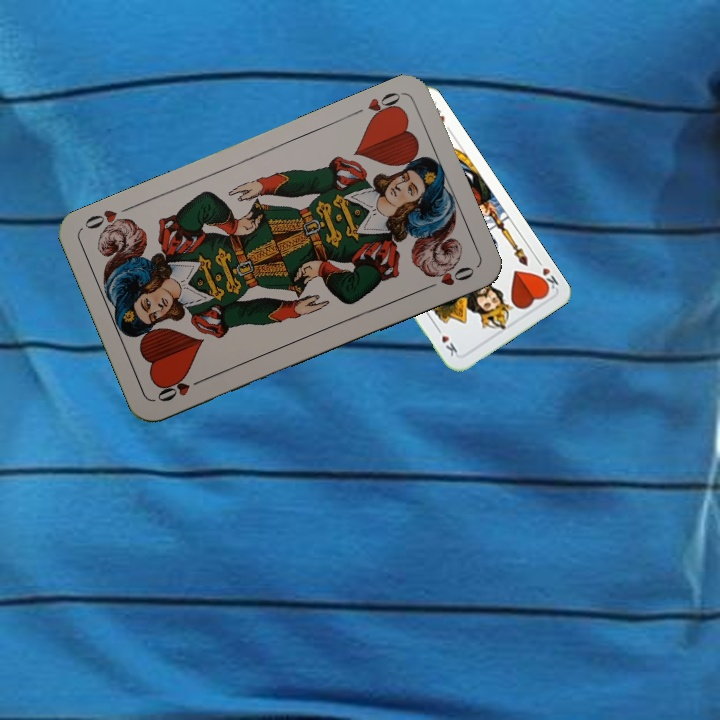HK: (532, 255, 561, 294)
HO: (347, 88, 405, 125), (153, 373, 209, 405)
